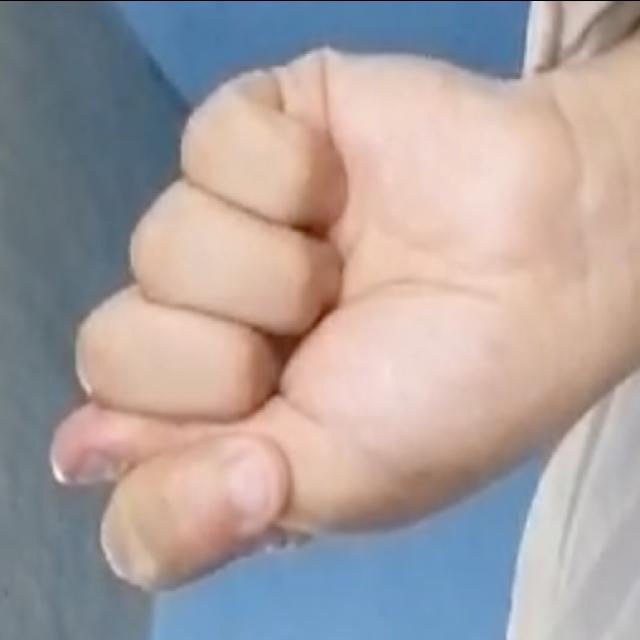T: (28, 14, 592, 598)
